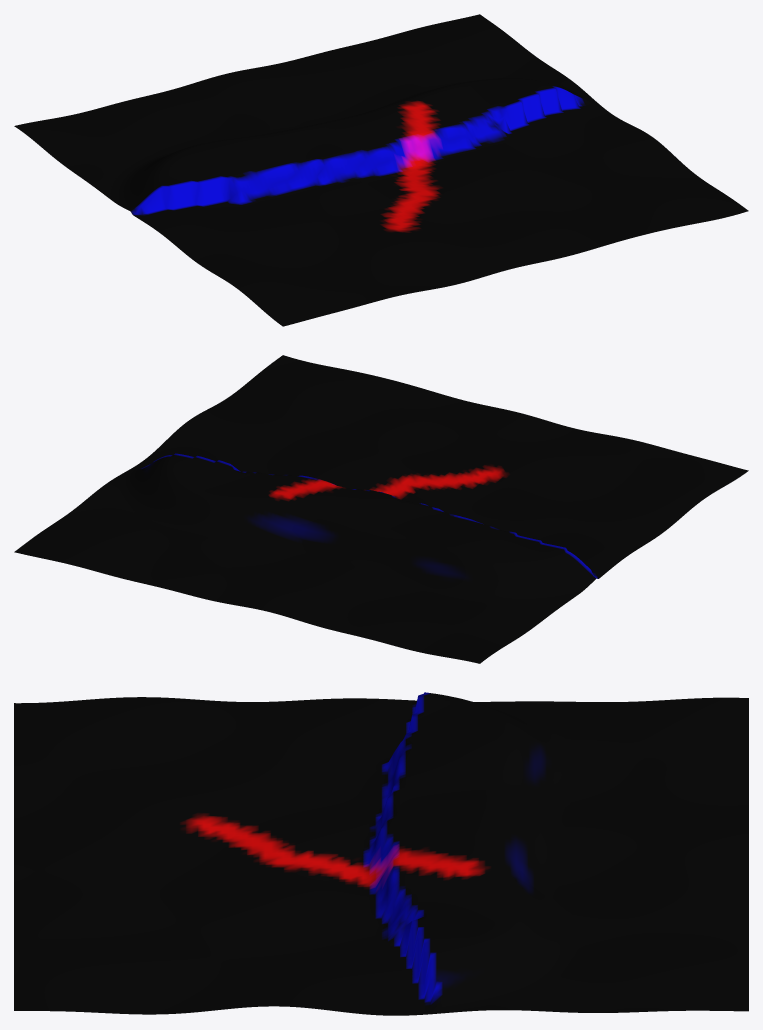
The model's file is terrain.glb.
3 renders of one model, top to bottom at view 1: azimuth 30°, elevation 25°; view 2: azimuth 150°, elevation 25°; view 3: azimuth 270°, elevation 25°, orthographic. The views are drawn at different scales.
Visible parts, largest first — view 1: terrain; view 2: terrain; view 3: terrain.
Boxes of the visible parts, bbox=[...] form: terrain: bbox=[14, 14, 748, 326]; terrain: bbox=[14, 355, 748, 663]; terrain: bbox=[14, 692, 748, 1015].
Bounding box in the file's own units: 60 × 3.37 × 60.
